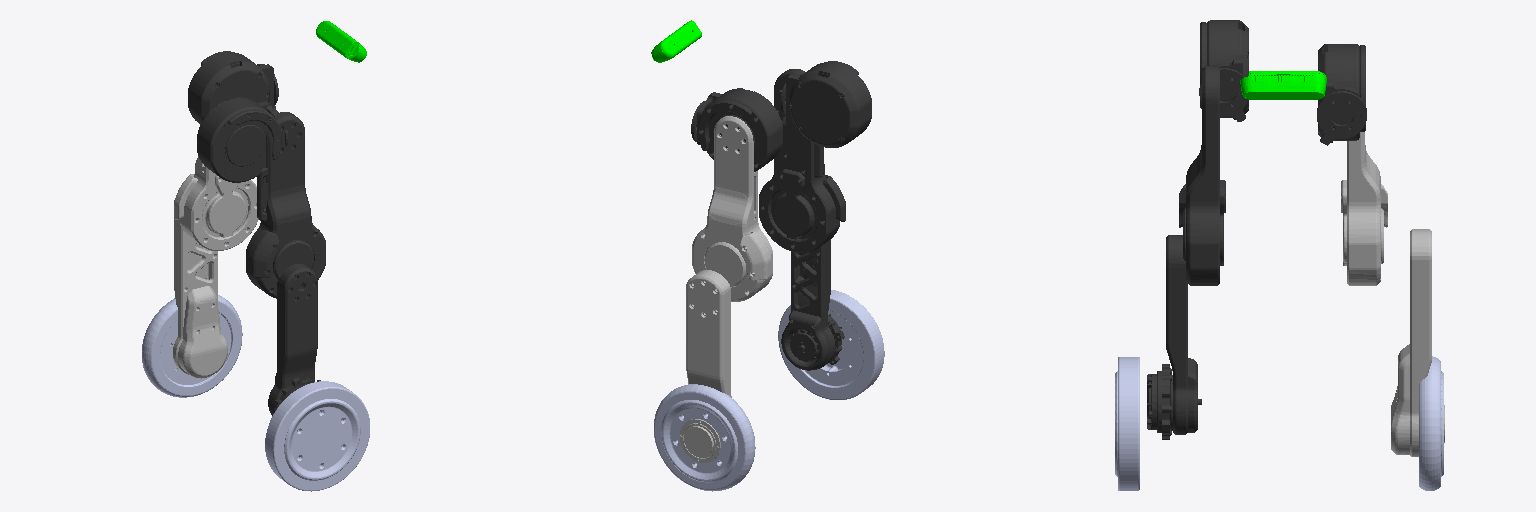
robot.urdf — pineapple:
<?xml version="1.0" encoding="utf-8"?>
<!-- This URDF was automatically created by SolidWorks to URDF Exporter! Originally created by Stephen Brawner (brawner@gmail.com) 
     Commit Version: 1.6.0-4-g7f85cfe  Build Version: 1.6.7995.38578
     For more information, please see http://wiki.ros.org/sw_urdf_exporter -->
<robot
  name="pineapple">
  <mujoco>
    <compiler
      meshdir="package://v1/meshes"
      balanceinertia="true"
      discardvisual="false" />
  </mujoco>
  <link
    name="base_link">
    <inertial>
      <origin
        xyz="-0.02063232 0.00164283 -0.01555938"
        rpy="0 0 0" />
      <mass
        value="2.85000000" />
      <inertia
        ixx="0.01102779"
        ixy="0.00037426"
        ixz="0.00754430"
        iyy="0.01804185"
        iyz="-0.00052496"
        izz="0.00752637" />
    </inertial>
    <visual>
      <origin
        xyz="0 0 0"
        rpy="0 0 0" />
      <geometry>
        <mesh
          filename="package://v1/meshes/base_link.STL" />
      </geometry>
      <material
        name="">
        <color
          rgba="0.752941176470588 0.752941176470588 0.752941176470588 1" />
      </material>
    </visual>
    <collision>
      <origin
        xyz="0 0 0"
        rpy="0 0 0" />
      <geometry>
        <mesh
          filename="package://v1/meshes/base_link_collision.STL" />
      </geometry>
    </collision>
  </link>
  <link
    name="cam">
    <inertial>
      <origin
        xyz="0.00000000 0.00000000 0.00000000"
        rpy="0 0 0" />
      <mass
        value="0.30000000" />
      <inertia
        ixx="0.00018085"
        ixy="0.00000269"
        ixz="0.00000005"
        iyy="0.00002720"
        iyz="-0.0000001"
        izz="0.00018280" />
    </inertial>
    <visual>
      <origin
        xyz="0 0 0"
        rpy="0 0 0" />
      <geometry>
        <mesh
          filename="package://v1/meshes/cam.STL" />
      </geometry>
      <material
        name="">
        <color
          rgba="0 1 0 1" />
      </material>
    </visual>
  </link>
  <joint
    name="cam_joint"
    type="fixed">
    <origin
      xyz="0.136663127592924 0 0.0595399140665773"
      rpy="0 0.698131700797732 0" />
    <parent
      link="base_link" />
    <child
      link="cam" />
    <axis
      xyz="0 0 0" />
  </joint>
  <link
    name="L_hip">
    <inertial>
      <origin
        xyz="0.00220657 -0.00275734 0.00000000"
        rpy="0 0 0" />
      <mass
        value="0.57300000" />
      <inertia
        ixx="0.00058596"
        ixy="-0.00000308"
        ixz="0.00000088"
        iyy="0.00092932"
        iyz="-0.0000001"
        izz="0.00066651" />
    </inertial>
    <visual>
      <origin
        xyz="0 0 0"
        rpy="0 0 0" />
      <geometry>
        <mesh
          filename="package://v1/meshes/L_hip.STL" />
      </geometry>
      <material
        name="">
        <color
          rgba="0.27843137254902 0.27843137254902 0.27843137254902 1" />
      </material>
    </visual>
  </link>
  <joint
    name="L_hip_joint"
    type="revolute">
    <origin
      xyz="0 0.06125 0"
      rpy="0 0 0" />
    <parent
      link="base_link" />
    <child
      link="L_hip" />
    <axis
      xyz="1 0 0" />
    <limit
      lower="-0.52358"
      upper="0.17444"
      effort="23.7"
      velocity="30.0" />
  </joint>
  <link
    name="L_thigh">
    <inertial>
      <origin
        xyz="-0.00003518 0.02442297 -0.11773718"
        rpy="0 0 0" />
      <mass
        value="0.75000000" />
      <inertia
        ixx="0.00538265"
        ixy="0.00000040"
        ixz="-0.00000270"
        iyy="0.00561736"
        iyz="0.00033393"
        izz="0.00058450" />
    </inertial>
    <visual>
      <origin
        xyz="0 0 0"
        rpy="0 0 0" />
      <geometry>
        <mesh
          filename="package://v1/meshes/L_thigh.STL" />
      </geometry>
      <material
        name="">
        <color
          rgba="0.752941176470588 0.752941176470588 0.752941176470588 1" />
      </material>
    </visual>
    <collision>
      <origin
        xyz="0 0 0"
        rpy="0 0 0" />
      <geometry>
        <mesh
          filename="package://v1/meshes/L_thigh_collision.STL" />
      </geometry>
    </collision>
  </link>
  <joint
    name="L_thigh_joint"
    type="revolute">
    <origin
      xyz="0 0.0129353215081658 0"
      rpy="0 0 0" />
    <parent
      link="L_hip" />
    <child
      link="L_thigh" />
    <axis
      xyz="0 1 0" />
    <limit
      lower="0.0"
      upper="1.571"
      effort="23.7"
      velocity="30.0" />
  </joint>
  <link
    name="L_calf">
    <inertial>
      <origin
        xyz="-0.00006785 0.03201549 -0.12089196"
        rpy="0 0 0" />
      <mass
        value="0.50000000" />
      <inertia
        ixx="0.00341614"
        ixy="-0.00000025"
        ixz="0.00000147"
        iyy="0.00347554"
        iyz="-0.00000899"
        izz="0.00019863" />
    </inertial>
    <visual>
      <origin
        xyz="0 0 0"
        rpy="0 0 0" />
      <geometry>
        <mesh
          filename="package://v1/meshes/L_calf.STL" />
      </geometry>
      <material
        name="">
        <color
          rgba="0.752941176470588 0.752941176470588 0.752941176470588 1" />
      </material>
    </visual>
    <collision>
      <origin
        xyz="0 0 0"
        rpy="0 0 0" />
      <geometry>
        <mesh
          filename="package://v1/meshes/L_calf_collision.STL" />
      </geometry>
    </collision>
  </link>
  <joint
    name="L_calf_joint"
    type="revolute">
    <origin
      xyz="0 0.035931787557176 -0.190000001217773"
      rpy="0 0 0" />
    <parent
      link="L_thigh" />
    <child
      link="L_calf" />
    <axis
      xyz="0 1 0" />
    <limit
      lower="-3.1416"
      upper="0.0"
      effort="33.5"
      velocity="21.0" />
  </joint>
  <link
    name="L_wheel">
    <inertial>
      <origin
        xyz="0.00000000 0.01250277 0.00000000"
        rpy="0 0 0" />
      <mass
        value="0.30500000" />
      <inertia
        ixx="0.00053977"
        ixy="-0.0000001"
        ixz="0.00000003"
        iyy="0.00105427"
        iyz="-0.0000001"
        izz="0.00053978" />
    </inertial>
    <visual>
      <origin
        xyz="0 0 0"
        rpy="0 0 0" />
      <geometry>
        <mesh
          filename="package://v1/meshes/L_wheel.STL" />
      </geometry>
      <material
        name="">
        <color
          rgba="0.792156862745098 0.819607843137255 0.933333333333333 1" />
      </material>
    </visual>
    <collision>
        <origin xyz="0 0.013 0" rpy="1.5708 0 0"/>
        <geometry>
          <cylinder radius="0.075" length="0.026"/>
        </geometry>
    </collision>
  </link>
  <joint
    name="L_wheel_joint"
    type="revolute">
    <origin
      xyz="0 0.0421817504179199 -0.190000000000001"
      rpy="0 0 0" />
    <parent
      link="L_calf" />
    <child
      link="L_wheel" />
    <axis
      xyz="0 1 0" />
    <limit
      effort="3.69"
      velocity="60.0" />
  </joint>
  <link
    name="R_hip">
    <inertial>
      <origin
        xyz="0.00220657 0.00275734 0.00000000"
        rpy="0 0 0" />
      <mass
        value="0.57300000" />
      <inertia
        ixx="0.00058596"
        ixy="0.00000308"
        ixz="0.00000088"
        iyy="0.00092932"
        iyz="-0.0000001"
        izz="0.00066651" />
    </inertial>
    <visual>
      <origin
        xyz="0 0 0"
        rpy="0 0 0" />
      <geometry>
        <mesh
          filename="package://v1/meshes/R_hip.STL" />
      </geometry>
      <material
        name="">
        <color
          rgba="0.27843137254902 0.27843137254902 0.27843137254902 1" />
      </material>
    </visual>
  </link>
  <joint
    name="R_hip_joint"
    type="revolute">
    <origin
      xyz="0 -0.0612499999999985 0"
      rpy="0 0 0" />
    <parent
      link="base_link" />
    <child
      link="R_hip" />
    <axis
      xyz="1 0 0" />
    <limit
      lower="-0.17444"
      upper="0.52358"
      effort="23.7"
      velocity="30.0" />
  </joint>
  <link
    name="R_thigh">
    <inertial>
      <origin
        xyz="-0.00003518 -0.02442297 -0.11773718"
        rpy="0 0 0" />
      <mass
        value="0.75000000" />
      <inertia
        ixx="0.00538265"
        ixy="-0.00000040"
        ixz="-0.00000270"
        iyy="0.00561736"
        iyz="-0.00033393"
        izz="0.00058450" />
    </inertial>
    <visual>
      <origin
        xyz="0 0 0"
        rpy="0 0 0" />
      <geometry>
        <mesh
          filename="package://v1/meshes/R_thigh.STL" />
      </geometry>
      <material
        name="">
        <color
          rgba="0.27843137254902 0.27843137254902 0.27843137254902 1" />
      </material>
    </visual>
    <collision>
      <origin
        xyz="0 0 0"
        rpy="0 0 0" />
      <geometry>
        <mesh
          filename="package://v1/meshes/R_thigh_collision.STL" />
      </geometry>
    </collision>
  </link>
  <joint
    name="R_thigh_joint"
    type="revolute">
    <origin
      xyz="0 -0.0129353215081659 0"
      rpy="0 0 0" />
    <parent
      link="R_hip" />
    <child
      link="R_thigh" />
    <axis
      xyz="0 1 0" />
    <limit
      lower="0.0"
      upper="1.571"
      effort="23.7"
      velocity="30.0" />
  </joint>
  <link
    name="R_calf">
    <inertial>
      <origin
        xyz="-0.00006785 -0.03201549 -0.12089196"
        rpy="0 0 0" />
      <mass
        value="0.50000000" />
      <inertia
        ixx="0.00341614"
        ixy="0.00000025"
        ixz="0.00000147"
        iyy="0.00347554"
        iyz="0.00000899"
        izz="0.00019863" />
    </inertial>
    <visual>
      <origin
        xyz="0 0 0"
        rpy="0 0 0" />
      <geometry>
        <mesh
          filename="package://v1/meshes/R_calf.STL" />
      </geometry>
      <material
        name="">
        <color
          rgba="0.27843137254902 0.27843137254902 0.27843137254902 1" />
      </material>
    </visual>
    <collision>
      <origin
        xyz="0 0 0"
        rpy="0 0 0" />
      <geometry>
        <mesh
          filename="package://v1/meshes/R_calf_collision.STL" />
      </geometry>
    </collision>
  </link>
  <joint
    name="R_calf_joint"
    type="revolute">
    <origin
      xyz="0 -0.0359317875571787 -0.190000001217773"
      rpy="0 0 0" />
    <parent
      link="R_thigh" />
    <child
      link="R_calf" />
    <axis
      xyz="0 1 0" />
    <limit
      lower="-3.1416"
      upper="0.0"
      effort="33.5"
      velocity="21.0" />
  </joint>
  <link
    name="R_wheel">
    <inertial>
      <origin
        xyz="0.00000000 -0.01250277 0.00000000"
        rpy="0 0 0" />
      <mass
        value="0.30500000" />
      <inertia
        ixx="0.00053977"
        ixy="-0.0000001"
        ixz="0.00000003"
        iyy="0.00105426"
        iyz="-0.0000001"
        izz="0.00053978" />
    </inertial>
    <visual>
      <origin
        xyz="0 0 0"
        rpy="0 0 0" />
      <geometry>
        <mesh
          filename="package://v1/meshes/R_wheel.STL" />
      </geometry>
      <material
        name="">
        <color
          rgba="0.792156862745098 0.819607843137255 0.933333333333333 1" />
      </material>
    </visual>
    <collision>
      <origin xyz="0 -0.013 0" rpy="1.5708 0 0"/>
      <geometry>
        <cylinder radius="0.075" length="0.026"/>
      </geometry>
    </collision>
  </link>
  <joint
    name="R_wheel_joint"
    type="revolute">
    <origin
      xyz="0 -0.0421817504179163 -0.190000000000001"
      rpy="0 0 0" />
    <parent
      link="R_calf" />
    <child
      link="R_wheel" />
    <axis
      xyz="0 1 0" />
    <limit
      effort="3.69"
      velocity="60.0" />
  </joint>
</robot>

--- What the picture shows (computed from the rendered views, not written in the file) ---
Views: 3 orthographic renders of the robot side by side, from view 1: azimuth 30°, elevation 25°; view 2: azimuth 150°, elevation 25°; view 3: azimuth 270°, elevation 25°.
Robot: pineapple — 10 links, 9 joints (8 revolute, 1 fixed); root link base_link; default pose: every joint at zero.
Links seen in each view (by area): view 1: R_wheel, R_thigh, L_calf, R_hip, L_thigh, R_calf, L_wheel, L_hip, cam; view 2: L_thigh, R_thigh, L_wheel, L_calf, R_hip, R_calf, R_wheel, L_hip, cam; view 3: R_thigh, R_calf, L_calf, L_thigh, L_hip, R_hip, R_wheel, L_wheel, cam.
Link boxes in pixels (x1,y1,x2,y2): R_wheel: [265, 381, 369, 491]; R_thigh: [246, 112, 325, 298]; L_calf: [170, 200, 227, 378]; R_hip: [197, 97, 287, 182]; L_thigh: [174, 156, 258, 250]; R_calf: [268, 264, 320, 415]; L_wheel: [142, 295, 242, 397]; L_hip: [188, 51, 278, 124]; cam: [316, 21, 366, 62]; L_thigh: [692, 116, 772, 301]; R_thigh: [759, 69, 845, 252]; L_wheel: [654, 384, 755, 491]; L_calf: [680, 270, 731, 462]; R_hip: [780, 61, 871, 147]; R_calf: [781, 239, 844, 370]; R_wheel: [778, 290, 884, 399]; L_hip: [691, 88, 782, 171]; cam: [651, 20, 701, 62]; R_thigh: [1179, 66, 1225, 285]; R_calf: [1147, 235, 1201, 439]; L_calf: [1391, 229, 1444, 456]; L_thigh: [1341, 132, 1387, 285]; L_hip: [1317, 44, 1366, 145]; R_hip: [1199, 20, 1248, 121]; R_wheel: [1115, 357, 1139, 490]; L_wheel: [1419, 356, 1443, 490]; cam: [1240, 71, 1326, 99].
Size in the robot's own frame: 0.2491 by 0.3433 by 0.5334 metres.
Meshes: 10 distinct files referenced, 9 mesh visuals loaded (9 binary STL); not drawn: 1 (reference not matched to a file when rendering).
